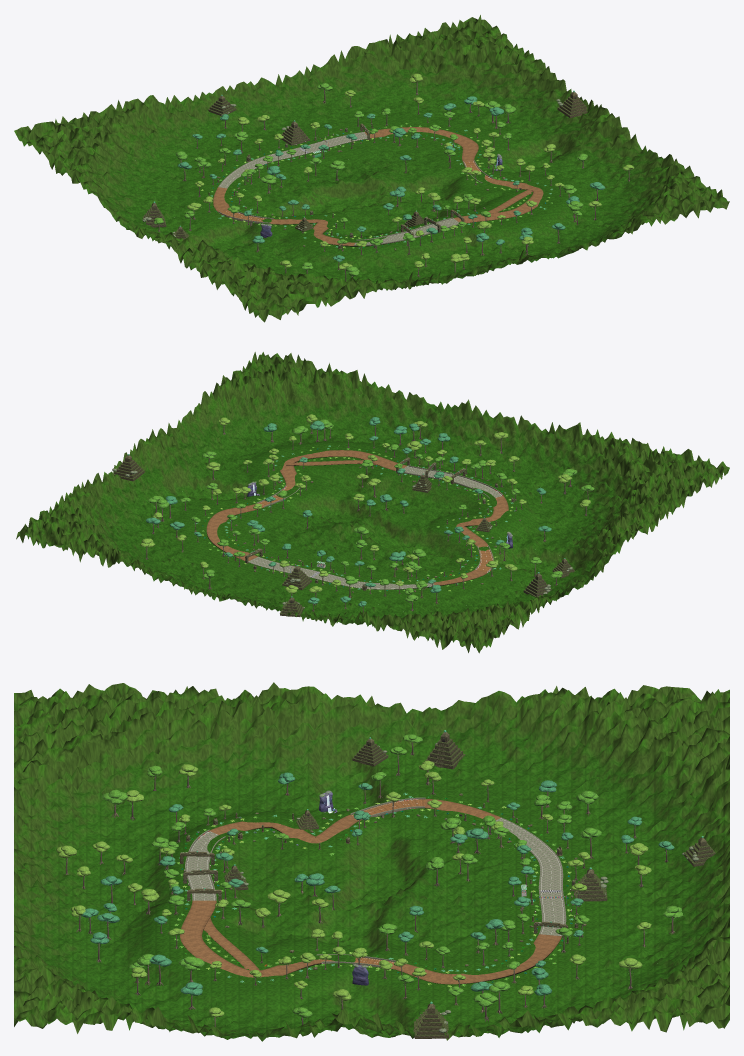
File: templo-esmeralda.glb
3 renders of one model, top to bottom at view 1: azimuth 30°, elevation 25°; view 2: azimuth 150°, elevation 25°; view 3: azimuth 270°, elevation 25°, orthographic. The views are drawn at different scales.
Parts seen in each view (by area): view 1: terrain4, terrain1, terrain3, terrain0, terrain2, terrain11, terrain6, terrain14, terrain19, terrain15, terrain24, terrain26 (+37 smaller); view 2: terrain28, terrain25, terrain24, terrain26, terrain14, terrain15, terrain29, terrain18, terrain0, terrain19, terrain21, terrain20 (+39 smaller); view 3: terrain18, terrain6, terrain12, terrain1, terrain24, terrain25, terrain0, terrain22, terrain3, terrain27, terrain14, terrain2 (+50 smaller).
Part boxes in pixels (x1,y1,x2,y2): terrain4: [348, 28, 479, 113]; terrain1: [99, 95, 228, 174]; terrain3: [265, 50, 395, 134]; terrain0: [14, 111, 145, 175]; terrain2: [181, 77, 312, 154]; terrain11: [480, 50, 571, 131]; terrain6: [64, 156, 192, 221]; terrain14: [279, 169, 408, 220]; terrain19: [244, 223, 373, 276]; terrain15: [361, 148, 489, 204]; terrain24: [207, 263, 335, 318]; terrain26: [374, 232, 504, 285]; terrain28: [256, 368, 387, 445]; terrain25: [507, 441, 637, 512]; terrain24: [590, 450, 719, 514]; terrain26: [425, 423, 554, 489]; terrain14: [327, 507, 456, 563]; terrain15: [243, 486, 373, 544]; terrain29: [209, 352, 303, 431]; terrain18: [542, 496, 673, 558]; terrain0: [397, 601, 528, 653]; terrain19: [461, 488, 589, 552]; terrain21: [294, 445, 422, 508]; terrain20: [375, 465, 505, 524]; terrain18: [175, 682, 314, 793]; terrain6: [453, 686, 591, 793]; terrain12: [314, 687, 452, 804]; terrain1: [591, 743, 729, 851]; terrain24: [37, 683, 175, 788]; terrain25: [37, 747, 175, 851]; terrain0: [591, 685, 729, 788]; terrain22: [175, 955, 314, 1027]; terrain3: [591, 878, 729, 969]; terrain27: [37, 886, 175, 967]; terrain14: [314, 843, 452, 911]; terrain2: [591, 820, 729, 909].
Size of what is drawn, in the model's own units: 672 by 64.54 by 620.
28 materials, 12 textured.
